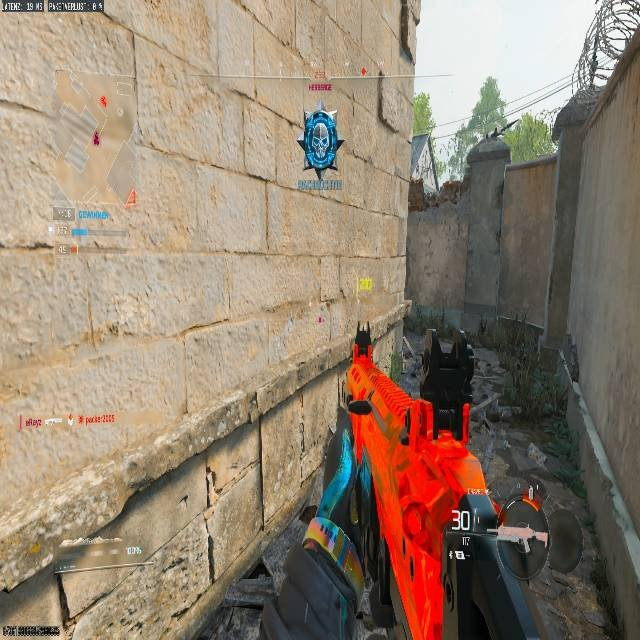player: (295, 109, 342, 171)
